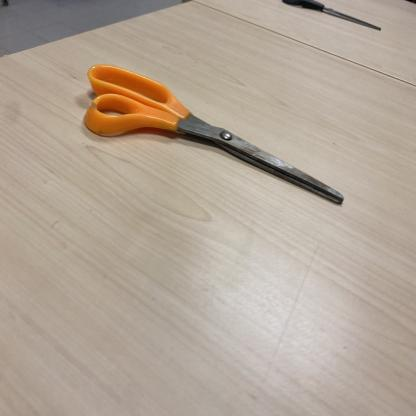scissors: (84, 64, 346, 206), (280, 0, 383, 32)
